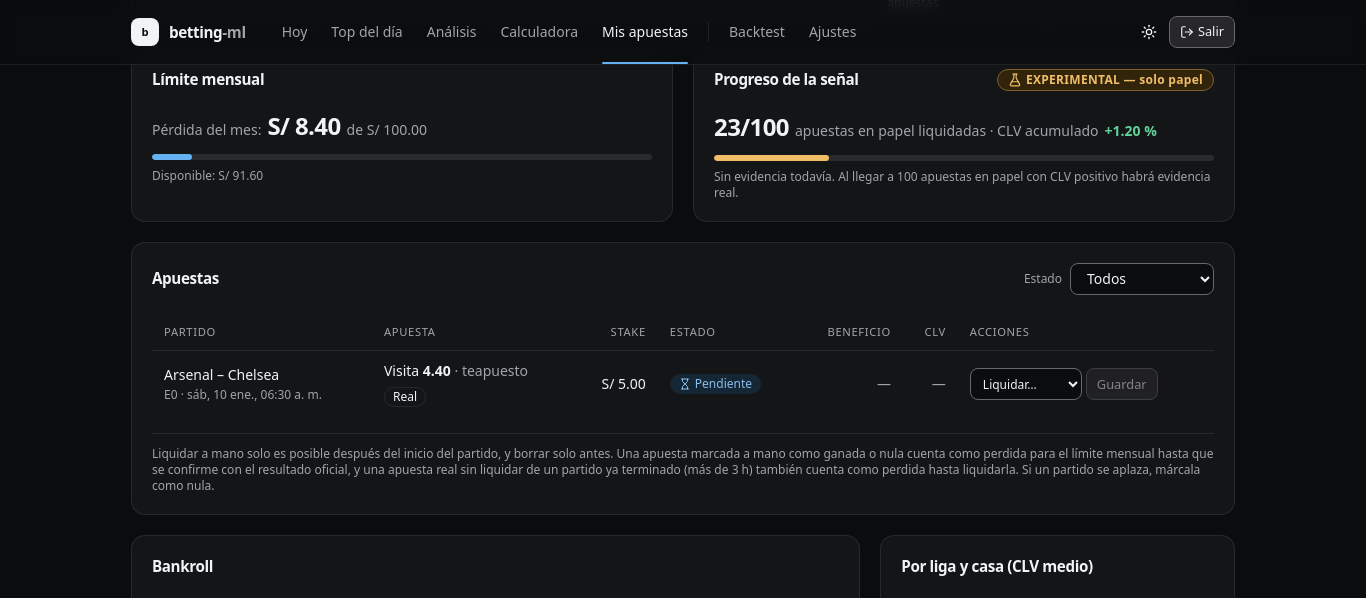
it: a bet changed elsewhere (409) is reloaded and the owner is told
(page scrolled)
Select "Perdida" in the dropdown named "Resultado de la apuesta 1". click: (1026, 384)
box: [970,368,1082,400]
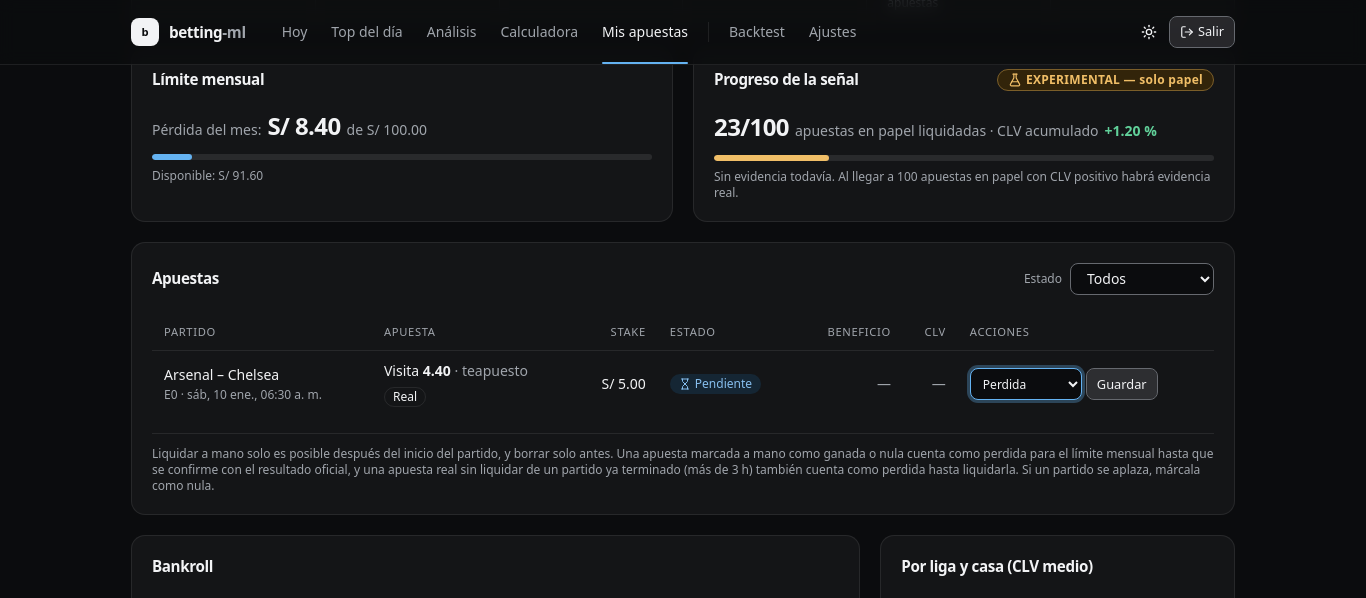
Click the button "Guardar". click: (1122, 384)
box: [1086,368,1158,400]
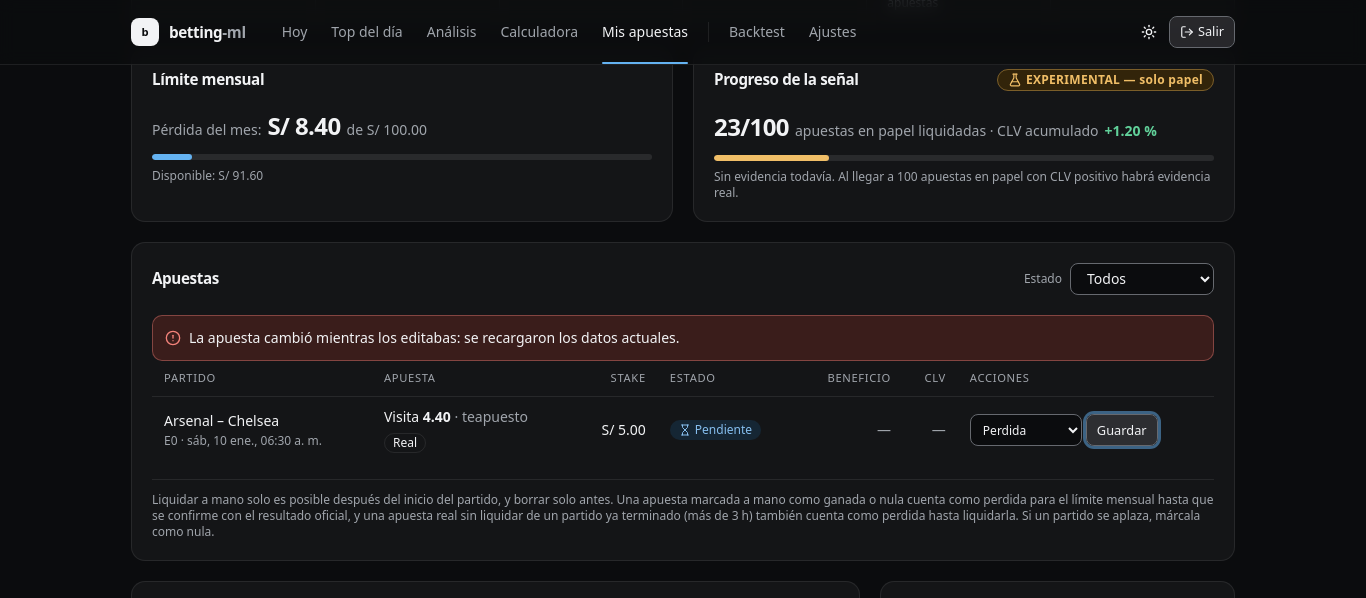
Expected: the message shows "La apuesta cambió", [189,328,680,346]
